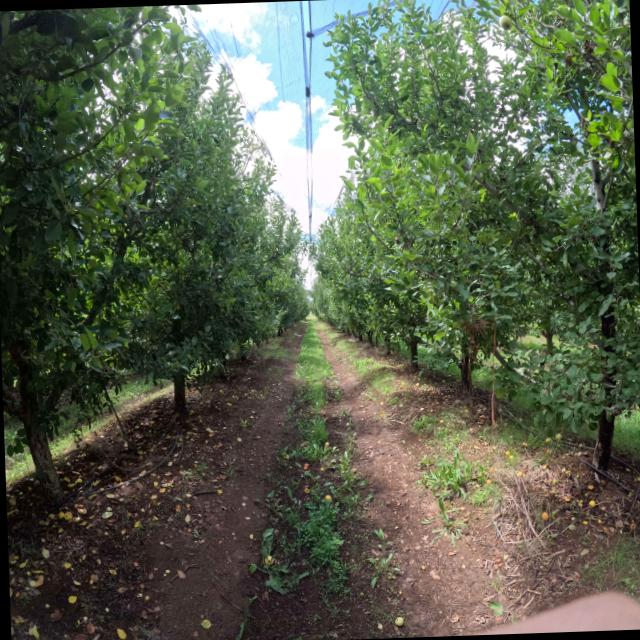-FireBlight-: (461, 321, 487, 352)
